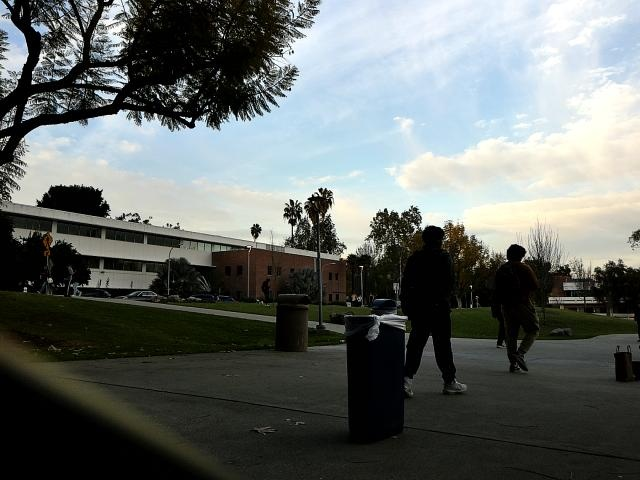trashcan_open: (346, 311, 409, 441)
